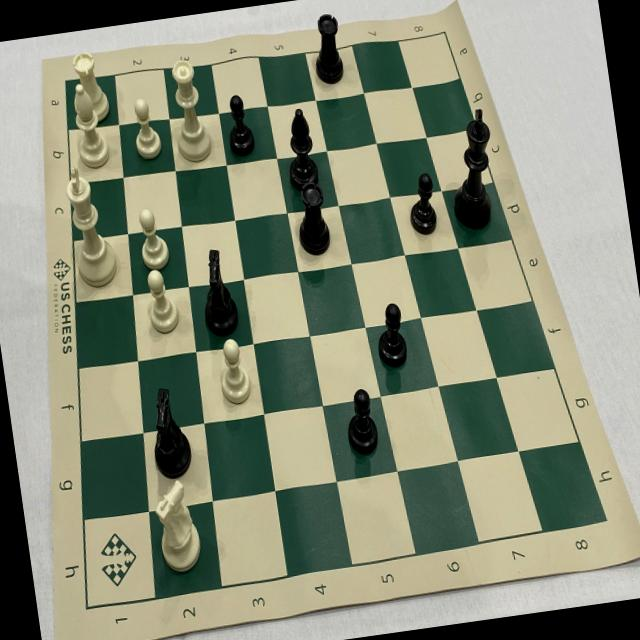black-bishop: (273, 96, 326, 200)
black-king: (438, 101, 510, 236)
black-knight: (188, 235, 250, 343), (139, 379, 198, 484)
black-pawn: (338, 382, 385, 460), (400, 165, 444, 241), (372, 298, 416, 374), (219, 86, 260, 160)
black-rook: (304, 3, 354, 92), (287, 178, 338, 263)
white-bishop: (65, 77, 118, 175)
white-king: (59, 158, 124, 296)
white-knight: (147, 471, 214, 581)
white-pawn: (212, 333, 260, 411), (138, 263, 186, 339), (124, 90, 168, 164), (130, 202, 173, 274)
white-queen: (160, 50, 220, 170)
white-rook: (66, 44, 118, 132)
